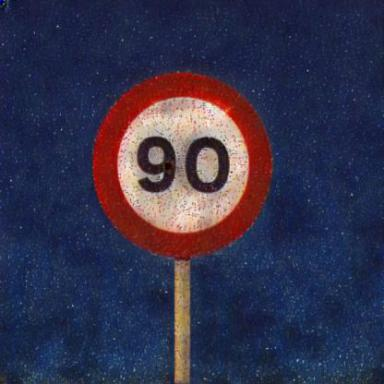Speed_limit_90: (94, 75, 271, 258)
